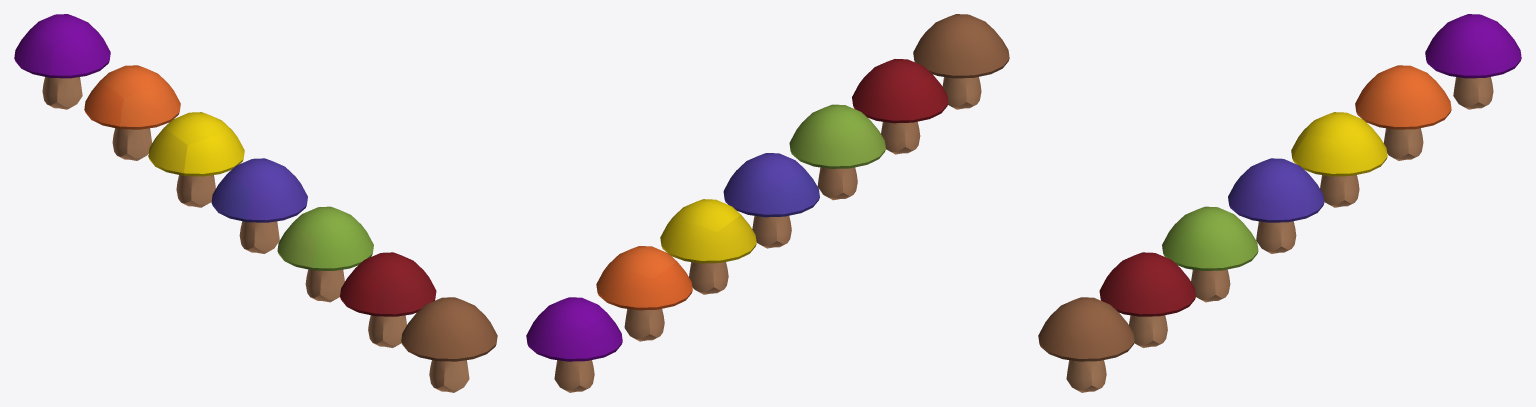
The model's file is Mushrooms.fbx.
3 views of the same model, side by side, from view 1: azimuth 30°, elevation 25°; view 2: azimuth 150°, elevation 25°; view 3: azimuth 330°, elevation 25° (orthographic).
Visible parts, largest first — view 1: Quadsphere.007, Quadsphere.003, Quadsphere, Quadsphere.006, Quadsphere.005, Quadsphere.002, Quadsphere.001; view 2: Quadsphere.006, Quadsphere.002, Quadsphere.007, Quadsphere.005, Quadsphere.003, Quadsphere.001, Quadsphere; view 3: Quadsphere.007, Quadsphere.003, Quadsphere, Quadsphere.006, Quadsphere.005, Quadsphere.002, Quadsphere.001.
Boxes of the visible parts, <box> form: Quadsphere.007: <box>14,14,110,109</box>; Quadsphere.003: <box>211,158,307,253</box>; Quadsphere: <box>401,297,497,392</box>; Quadsphere.006: <box>84,65,180,160</box>; Quadsphere.005: <box>148,112,244,207</box>; Quadsphere.002: <box>277,206,373,302</box>; Quadsphere.001: <box>340,252,436,347</box>; Quadsphere.006: <box>596,246,692,341</box>; Quadsphere.002: <box>789,104,885,200</box>; Quadsphere.007: <box>526,297,622,392</box>; Quadsphere.005: <box>660,199,756,294</box>; Quadsphere.003: <box>723,153,819,248</box>; Quadsphere.001: <box>852,59,948,154</box>; Quadsphere: <box>913,14,1009,109</box>; Quadsphere.007: <box>1425,14,1521,109</box>; Quadsphere.003: <box>1228,158,1324,253</box>; Quadsphere: <box>1038,297,1134,392</box>; Quadsphere.006: <box>1355,65,1451,160</box>; Quadsphere.005: <box>1291,112,1387,207</box>; Quadsphere.002: <box>1162,206,1258,302</box>; Quadsphere.001: <box>1099,252,1195,347</box>.
Size of the model in its own units: 235 by 239 by 2101.
Materials: 1 (1 with a texture image).
